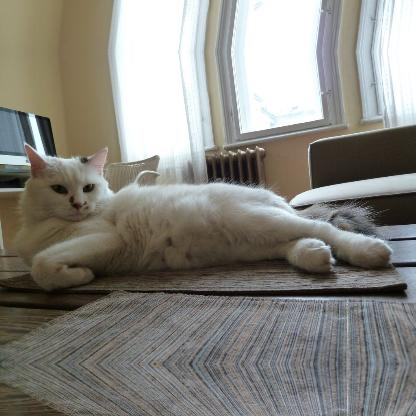Cat: (13, 139, 392, 292)
